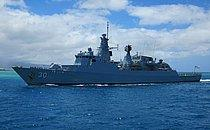MIL_Ship: (10, 21, 202, 85)
